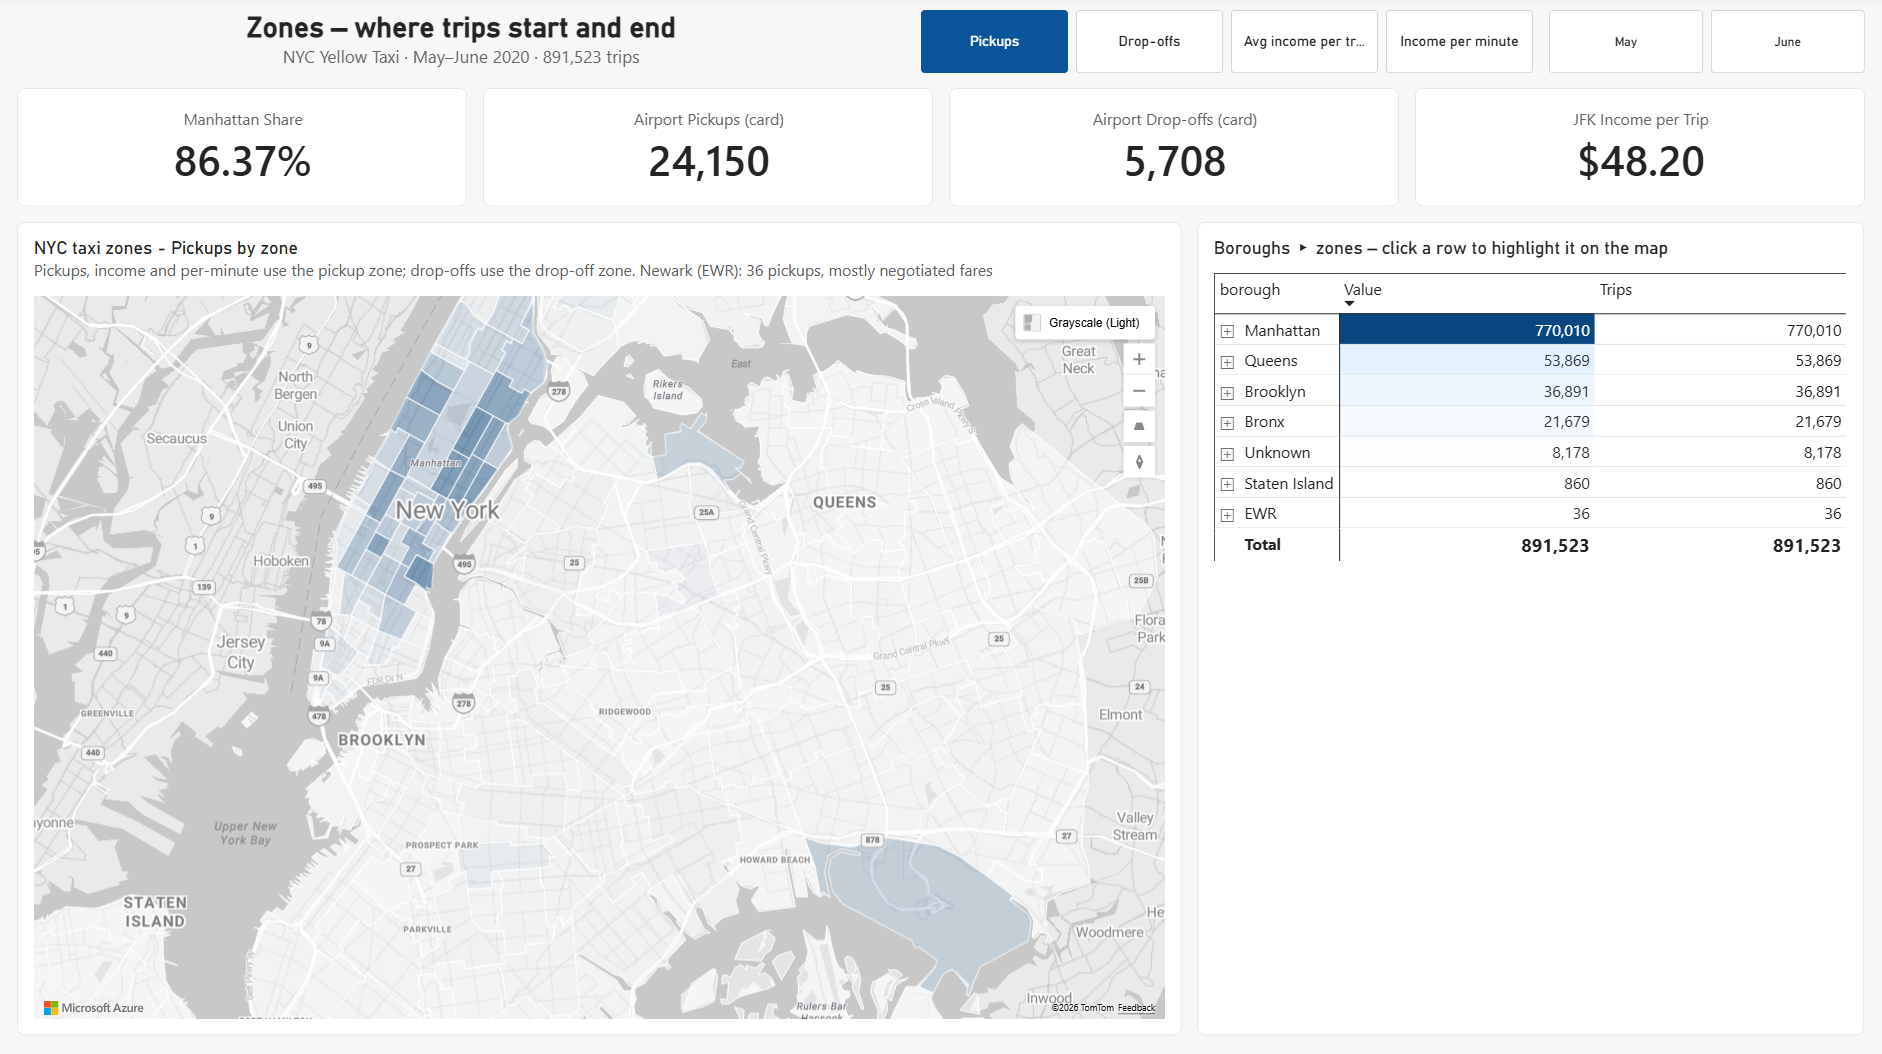

This screenshot's page, from the dashboard's own definition file:
{"tool":"powerbi","page":{"name":"Zones","canvas":[1920,1080],"ordinal":2},"visuals":[{"type":"textbox","title":"Zones – where trips start and end","box":[24,16,900,64],"z":0},{"type":"advancedSlicerVisual","fields":{"Values":["dim_date.month"]},"box":[1576,16,320,64],"z":1000},{"type":"advancedSlicerVisual","fields":{"Values":["Metric.Metric"]},"box":[940,16,620,64],"z":2000},{"type":"cardVisual","fields":{"Data":["_measures.Manhattan Share"]},"box":[24,96,456,120],"z":3000},{"type":"cardVisual","fields":{"Data":["_measures.Airport Pickups (card)"]},"box":[496,96,456,120],"z":4000},{"type":"cardVisual","fields":{"Data":["_measures.Airport Drop-offs (card)"]},"box":[968,96,456,120],"z":5000},{"type":"cardVisual","fields":{"Data":["_measures.JFK Income per Trip"]},"box":[1440,96,456,120],"z":6000},{"type":"azureMap","fields":{"Category":["dim_zone.locationID"]},"box":[24,232,1180,824],"z":7000},{"type":"pivotTable","title":"Boroughs ▸ zones – click a row to highlight it on the map","fields":{"Rows":["dim_zone.borough","dim_zone.zone"],"Values":["_measures.Selected Metric","_measures.Trips"]},"box":[1220,232,676,824],"z":8000}]}

Visuals, with their boxes in screenshot pixels (x1, y1, x2, y2), scaled from the page's 1920x1080 canvas onto the 1882x1054 screenshot:
"Zones – where trips start and end" textbox: {"x1": 24, "y1": 16, "x2": 906, "y2": 78}
advancedSlicerVisual - dim_date.month: {"x1": 1545, "y1": 16, "x2": 1858, "y2": 78}
advancedSlicerVisual - Metric.Metric: {"x1": 921, "y1": 16, "x2": 1529, "y2": 78}
cardVisual - _measures.Manhattan Share: {"x1": 24, "y1": 94, "x2": 470, "y2": 211}
cardVisual - _measures.Airport Pickups (card): {"x1": 486, "y1": 94, "x2": 933, "y2": 211}
cardVisual - _measures.Airport Drop-offs (card): {"x1": 949, "y1": 94, "x2": 1396, "y2": 211}
cardVisual - _measures.JFK Income per Trip: {"x1": 1412, "y1": 94, "x2": 1858, "y2": 211}
azureMap - dim_zone.locationID: {"x1": 24, "y1": 226, "x2": 1180, "y2": 1031}
"Boroughs ▸ zones – click a row to highlight it on the map" pivotTable: {"x1": 1196, "y1": 226, "x2": 1858, "y2": 1031}
